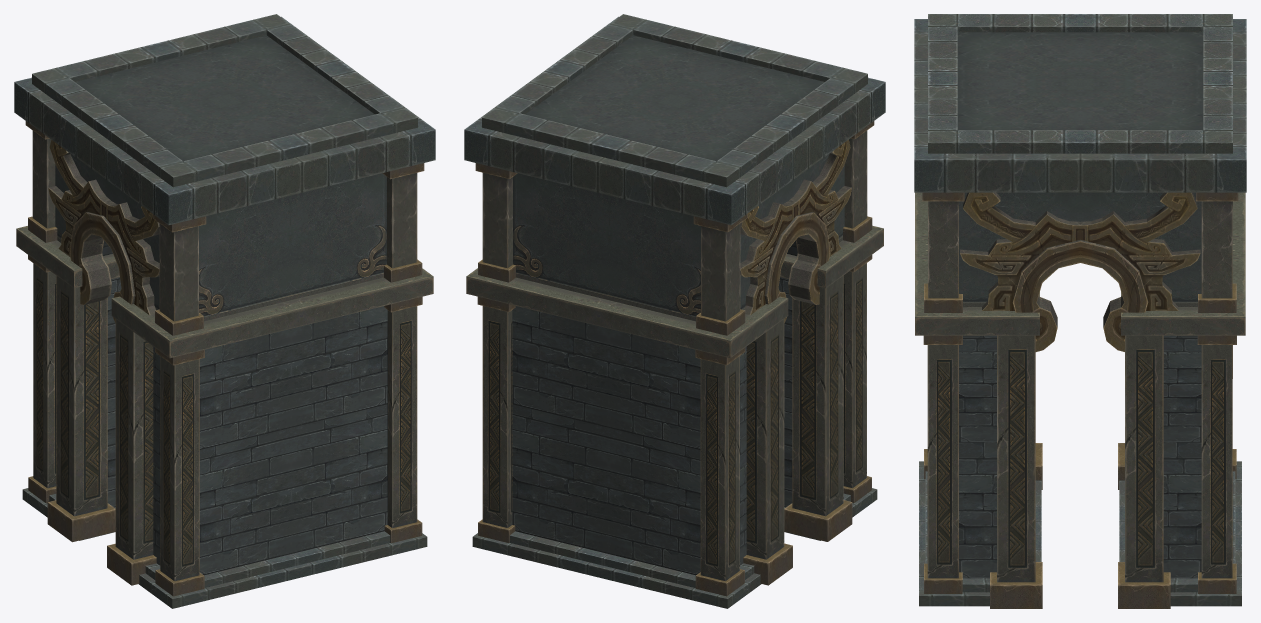
The model's file is tai_zi_002.FBX.
3 renders of one model, left to right at view 1: azimuth 30°, elevation 25°; view 2: azimuth 150°, elevation 25°; view 3: azimuth 270°, elevation 25°, orthographic. The views are drawn at different scales.
Visible parts, largest first — view 1: tai_zi_002_a01; view 2: tai_zi_002_a01; view 3: tai_zi_002_a01.
Part boxes in pixels (box(x1,y1,x2,y2)): tai_zi_002_a01: box(14, 14, 435, 608); tai_zi_002_a01: box(464, 14, 885, 608); tai_zi_002_a01: box(914, 14, 1246, 608).
Bounding box in the file's own units: 738 × 1116 × 730.
1 material, 1 textured.
